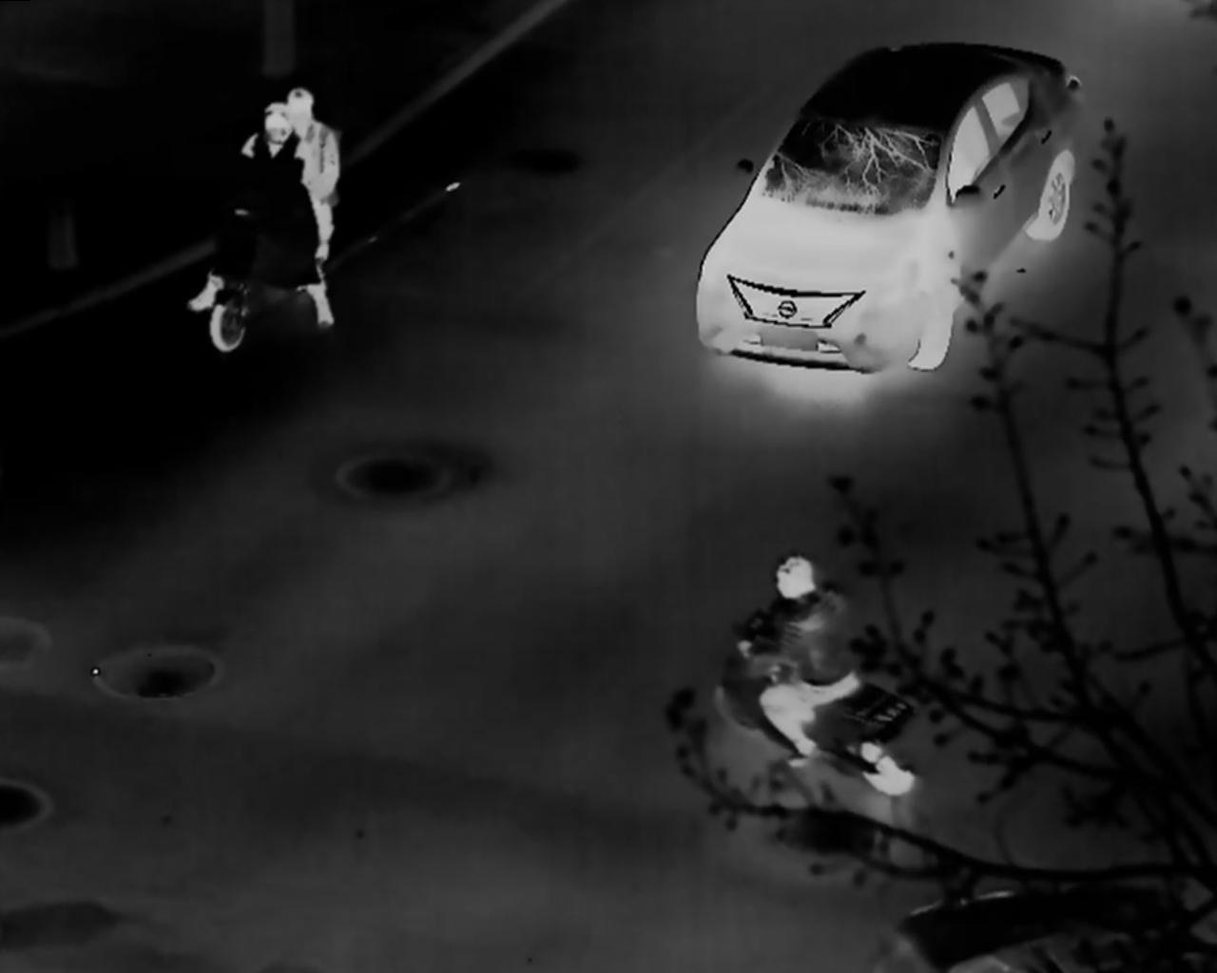person: (737, 557, 862, 770), (282, 86, 338, 332), (241, 104, 310, 171)
